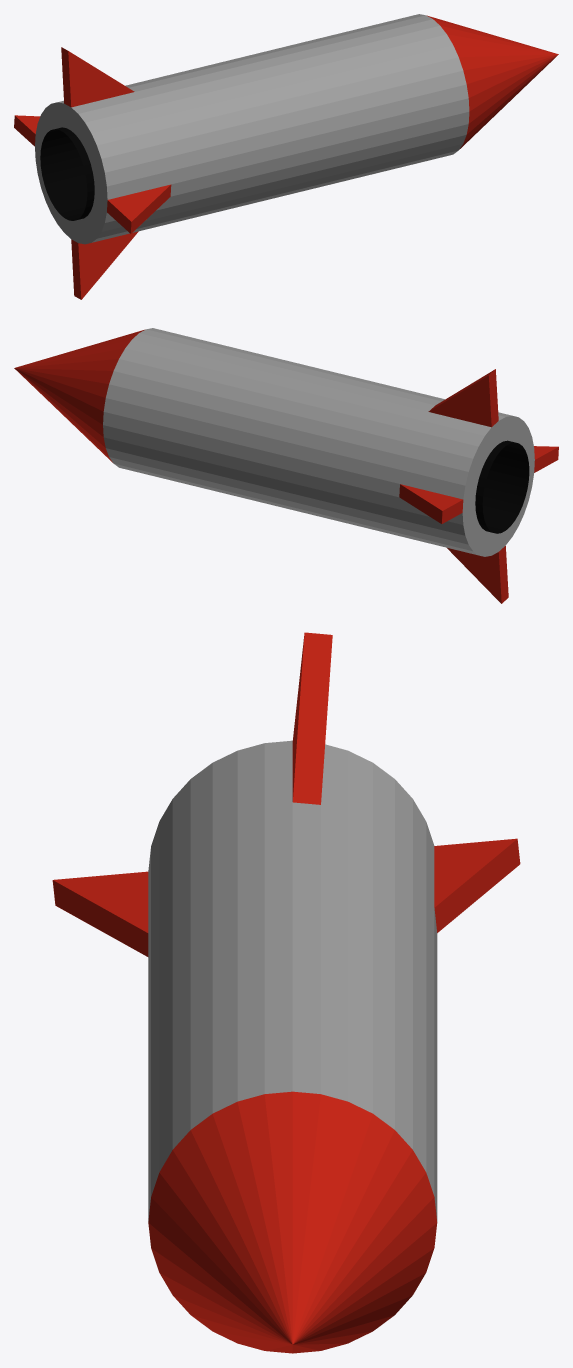
File: rocket.fbx
The picture shows the model from 3 angles, top to bottom: view 1: azimuth 30°, elevation 25°; view 2: azimuth 150°, elevation 25°; view 3: azimuth 270°, elevation 25°; orthographic projection. The views are drawn at different scales.
Visible parts, largest first — view 1: Cone; view 2: Cone; view 3: Cone.
Part boxes in pixels (x1,y1,x2,y2): Cone: (14, 14, 558, 299); Cone: (14, 328, 558, 603); Cone: (52, 632, 520, 1353).
Size of the model in its own units: 136 by 63.28 by 56.05.
